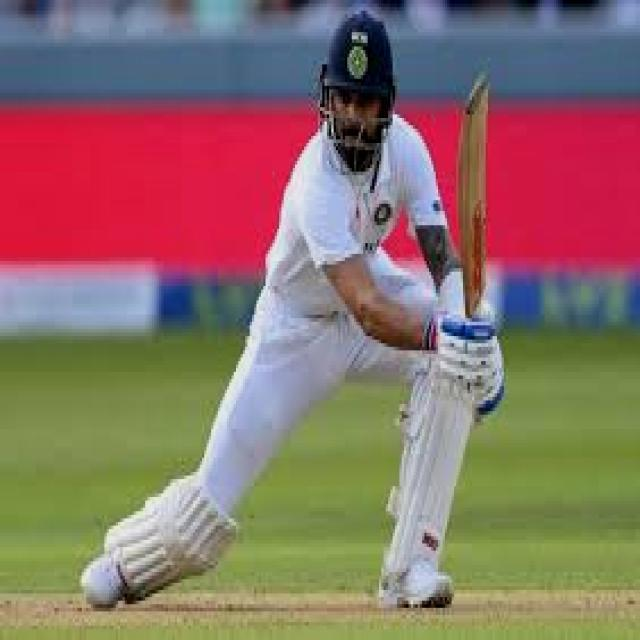bat: (450, 72, 507, 314)
toe: (454, 78, 503, 100)
